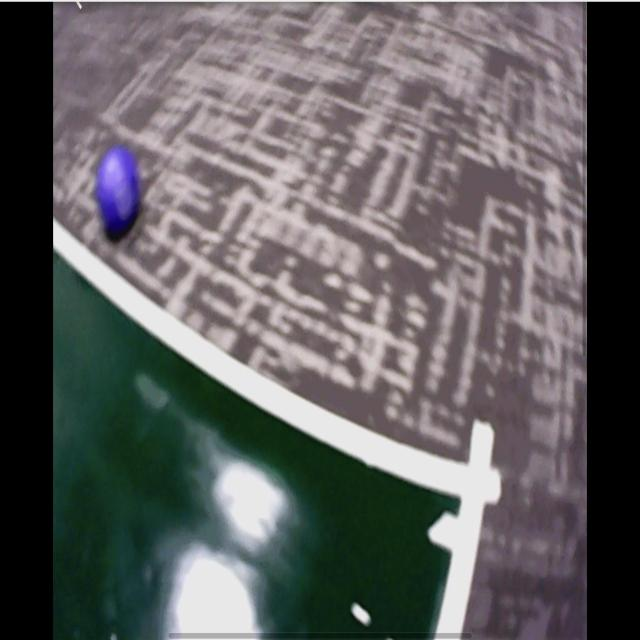ball: (96, 147, 141, 231)
